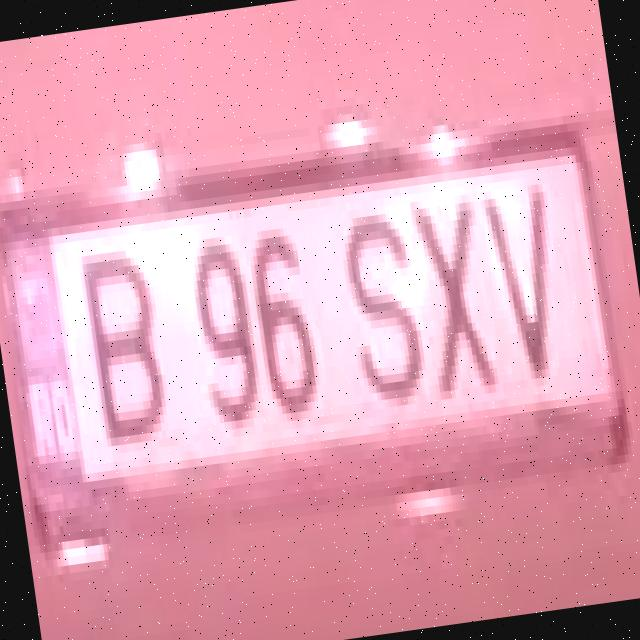EU: (0, 137, 633, 548)
Romanie: (2, 233, 89, 500)
